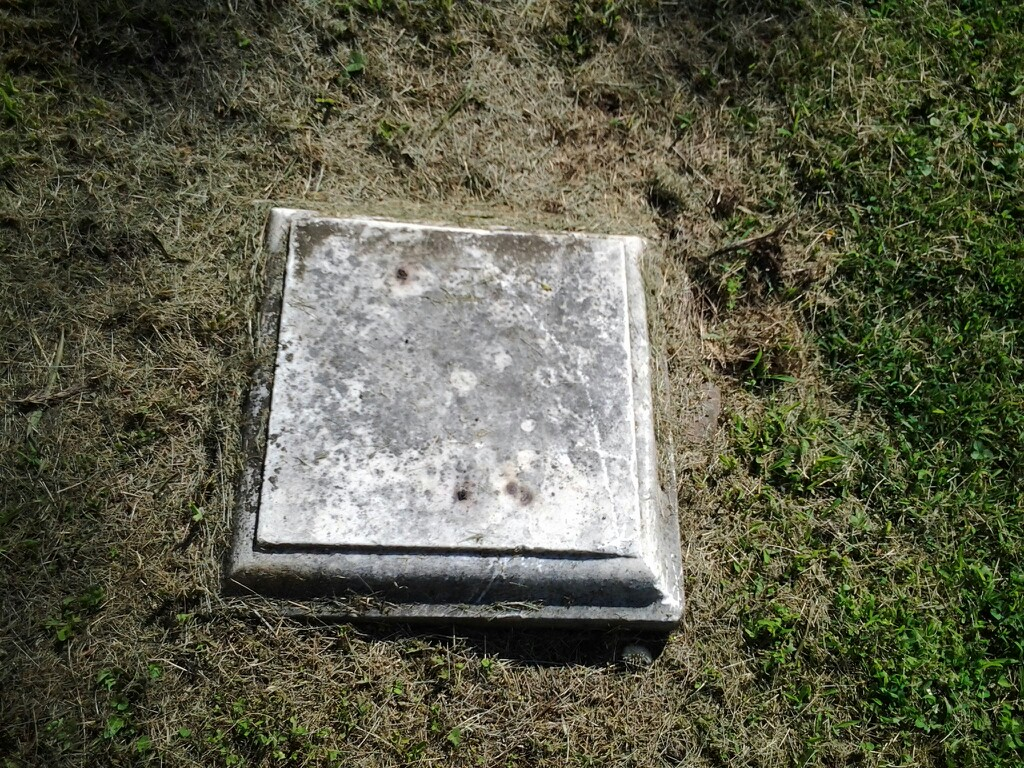flat: (206, 192, 688, 638)
